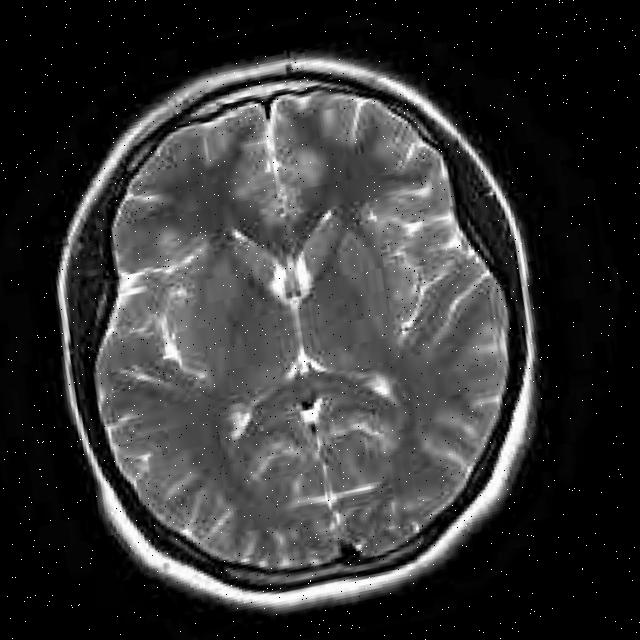NoTumor: (0, 2, 618, 640)
